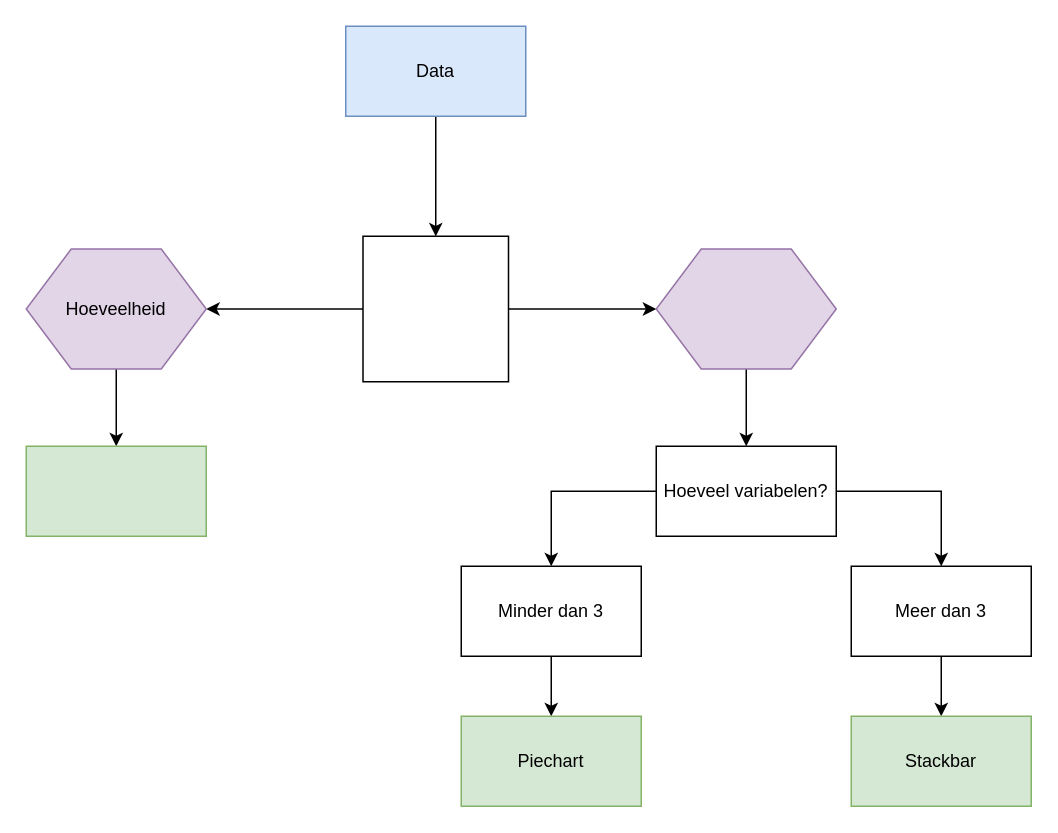
This 1058x833 diagram has some shape labels left out. The centre of each missing label's shape, as x and y in pixels:
Bars: point 115,490
Proportie: point 745,308
Welke context heeft de data: point 435,308
